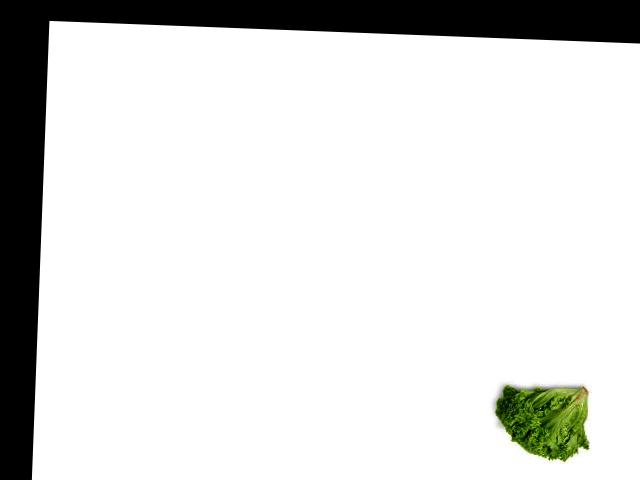lettuce: (488, 375, 595, 467)
